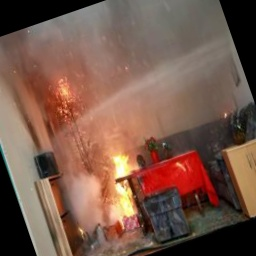fire: (102, 148, 148, 212)
smoke: (46, 129, 123, 229)
